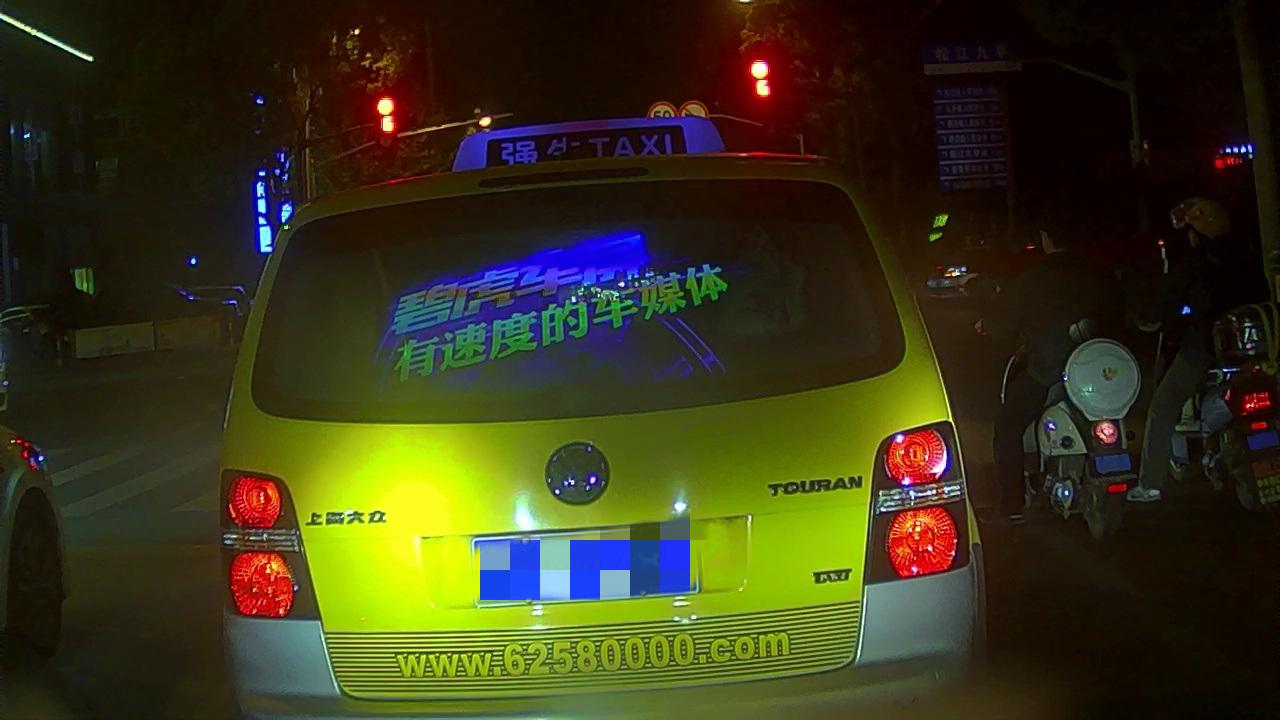traffic_light: (747, 57, 776, 102), (372, 92, 400, 138)
